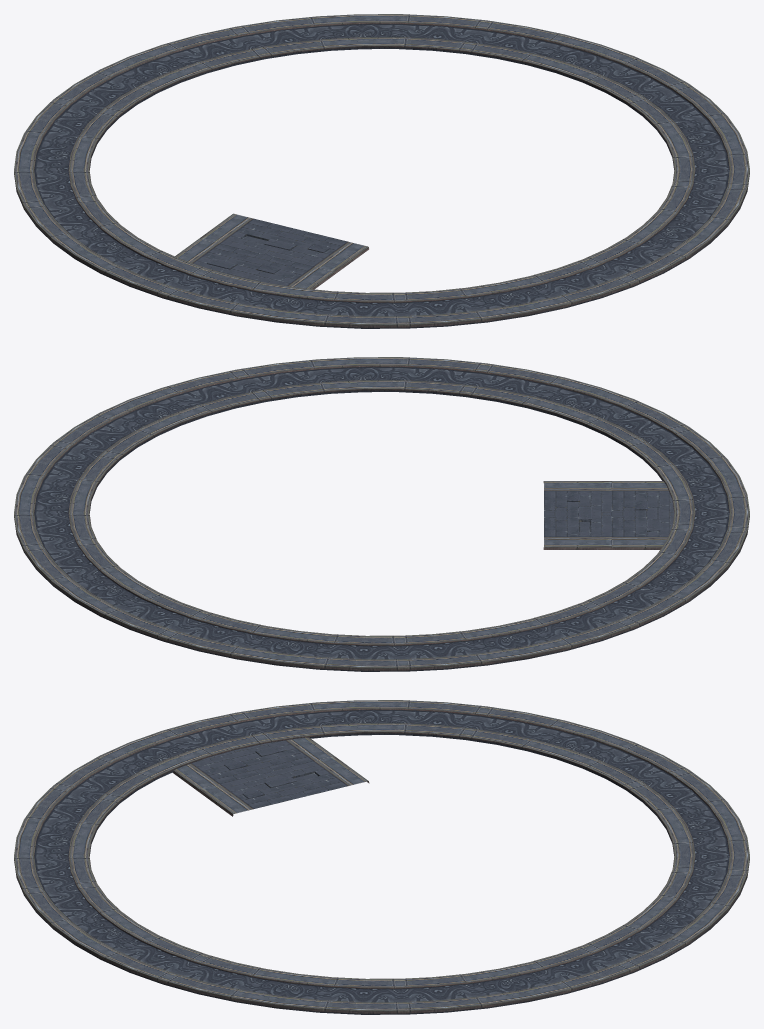
Rendered from biwu.FBX.
3 renders of one model, top to bottom at view 1: azimuth 30°, elevation 25°; view 2: azimuth 150°, elevation 25°; view 3: azimuth 270°, elevation 25°, orthographic.
Parts seen in each view (by area): view 1: 54051_02; view 2: 54051_02; view 3: 54051_02.
Part boxes in pixels (x1=…): 54051_02: x1=14, y1=14, x2=749, y2=328; 54051_02: x1=14, y1=357, x2=749, y2=671; 54051_02: x1=14, y1=700, x2=749, y2=1014.
Size of the model in its own units: 1481 by 9.22 by 1483.
